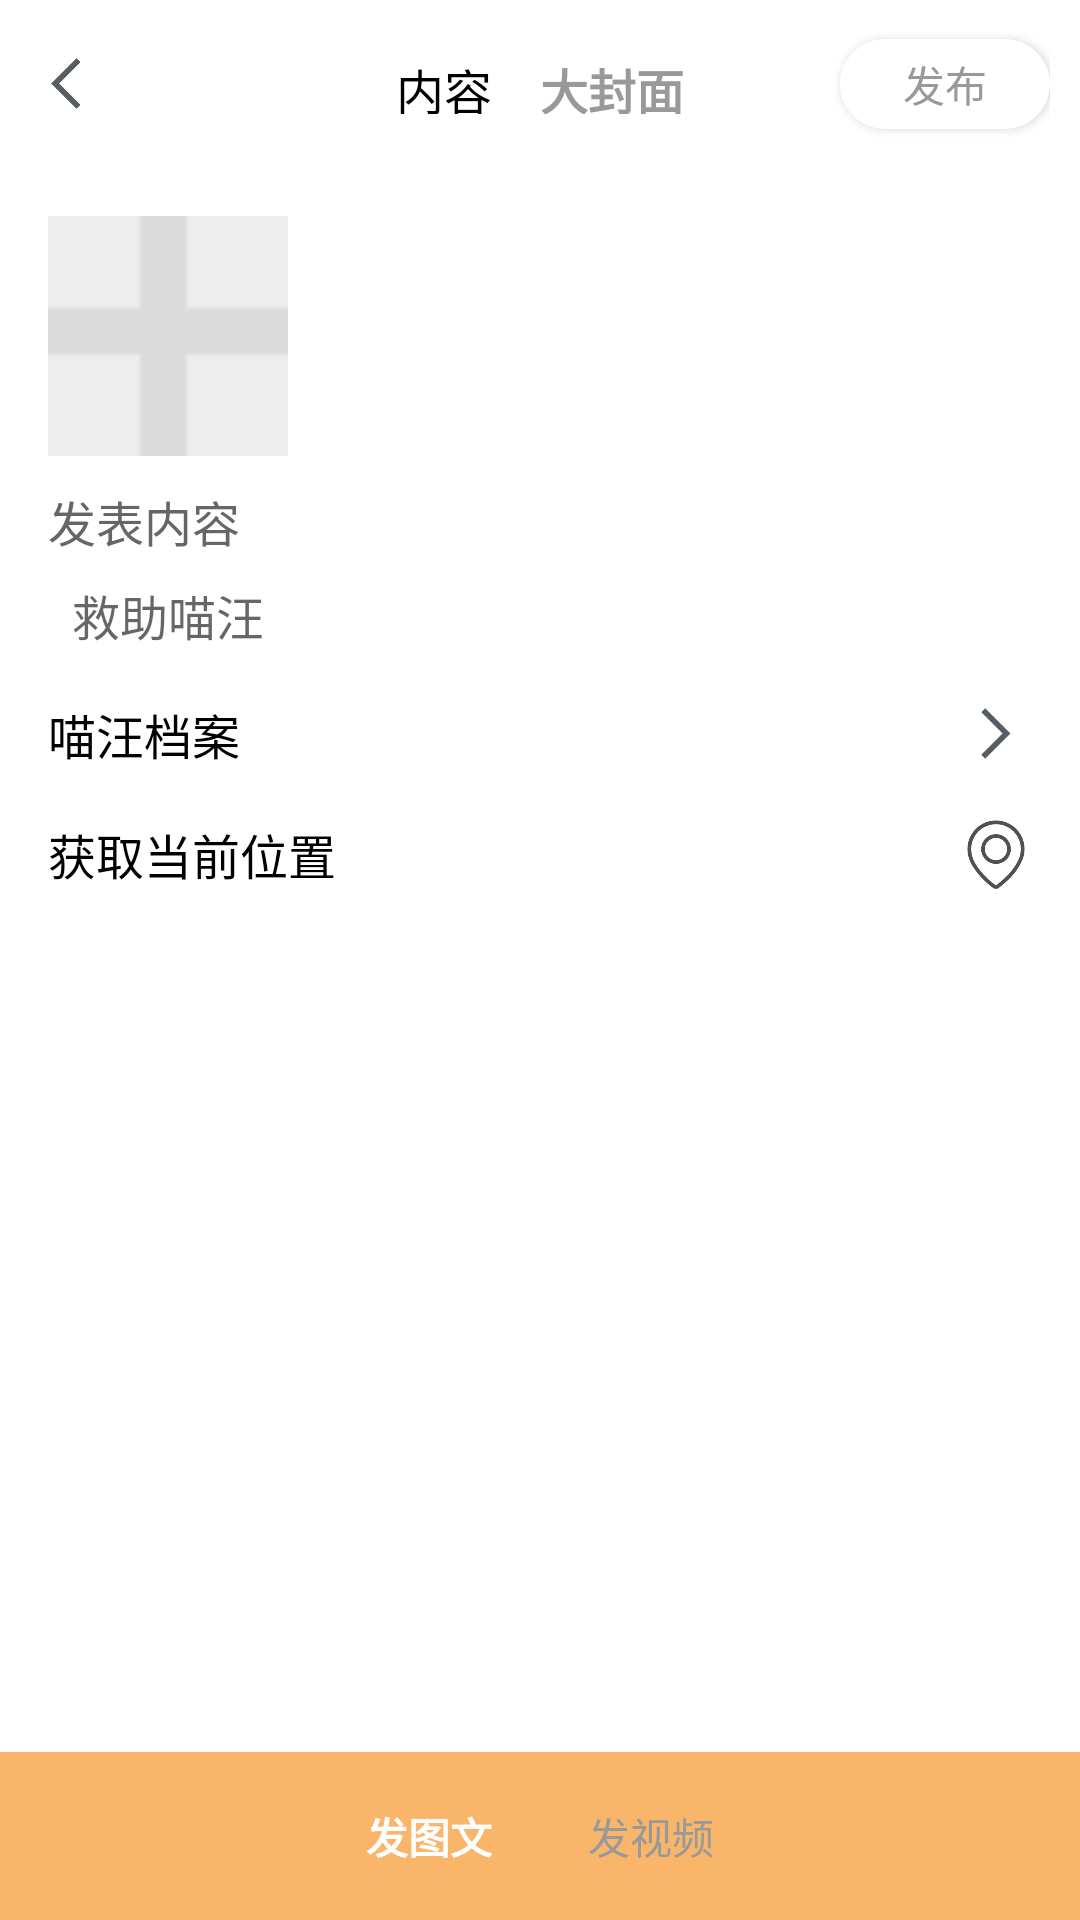

Named icons in this screenshot (1080 x 1920) and their bounding boxes, (x1, y1, x2, y2):
address: (967, 820, 1025, 889)
arrow right: (981, 708, 1011, 759)
back: (51, 58, 80, 109)
